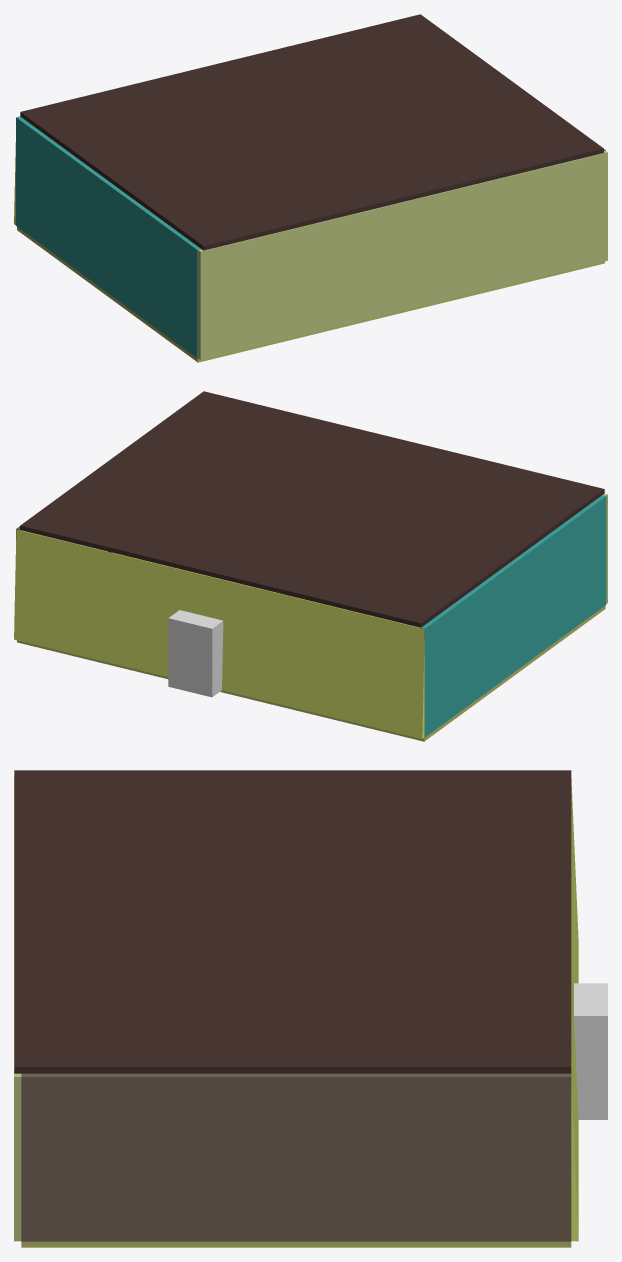
The model's file is Escape Room 1.fbx.
3 views of the same model, one above another, from view 1: azimuth 30°, elevation 25°; view 2: azimuth 150°, elevation 25°; view 3: azimuth 270°, elevation 25° (orthographic). The views are drawn at different scales.
Parts seen in each view (by area): view 1: Cube.006, Cube.003, Cube.007, Cube.005; view 2: Cube.006, Cube.004, Cube.007, Cube.010, Cube.005; view 3: Cube.006, Cube.008, Cube.010, Cube.005, Cube.004, Cube.003.
Part boxes in pixels (bbox=[...]): Cube.006: bbox=[20, 14, 603, 250]; Cube.003: bbox=[198, 150, 607, 359]; Cube.007: bbox=[16, 116, 200, 358]; Cube.005: bbox=[17, 227, 604, 362]; Cube.006: bbox=[20, 391, 604, 627]; Cube.004: bbox=[14, 529, 424, 738]; Cube.007: bbox=[421, 495, 606, 737]; Cube.010: bbox=[168, 610, 223, 697]; Cube.005: bbox=[17, 605, 605, 741]; Cube.006: bbox=[14, 770, 571, 1073]; Cube.008: bbox=[21, 1073, 571, 1241]; Cube.010: bbox=[574, 983, 607, 1119]; Cube.005: bbox=[21, 1241, 571, 1247]; Cube.004: bbox=[571, 779, 578, 1241]; Cube.003: bbox=[14, 775, 21, 1241].
Bounding box in the file's own units: 1869 × 513 × 1550.
